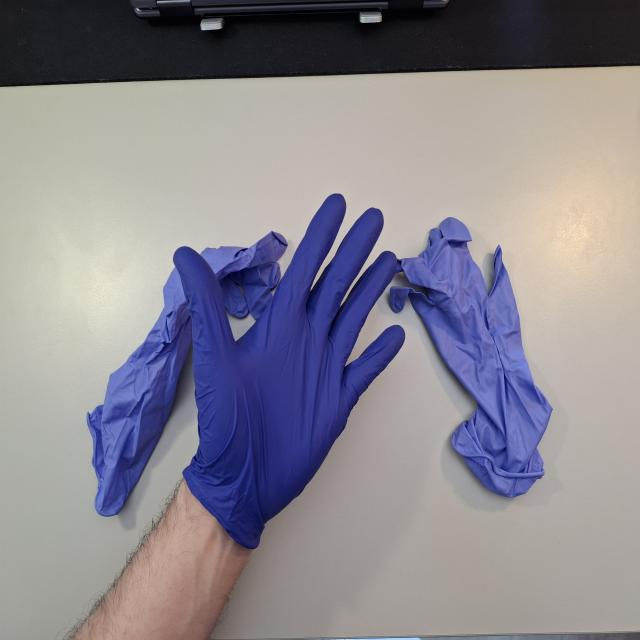glove_on: (169, 189, 408, 552)
